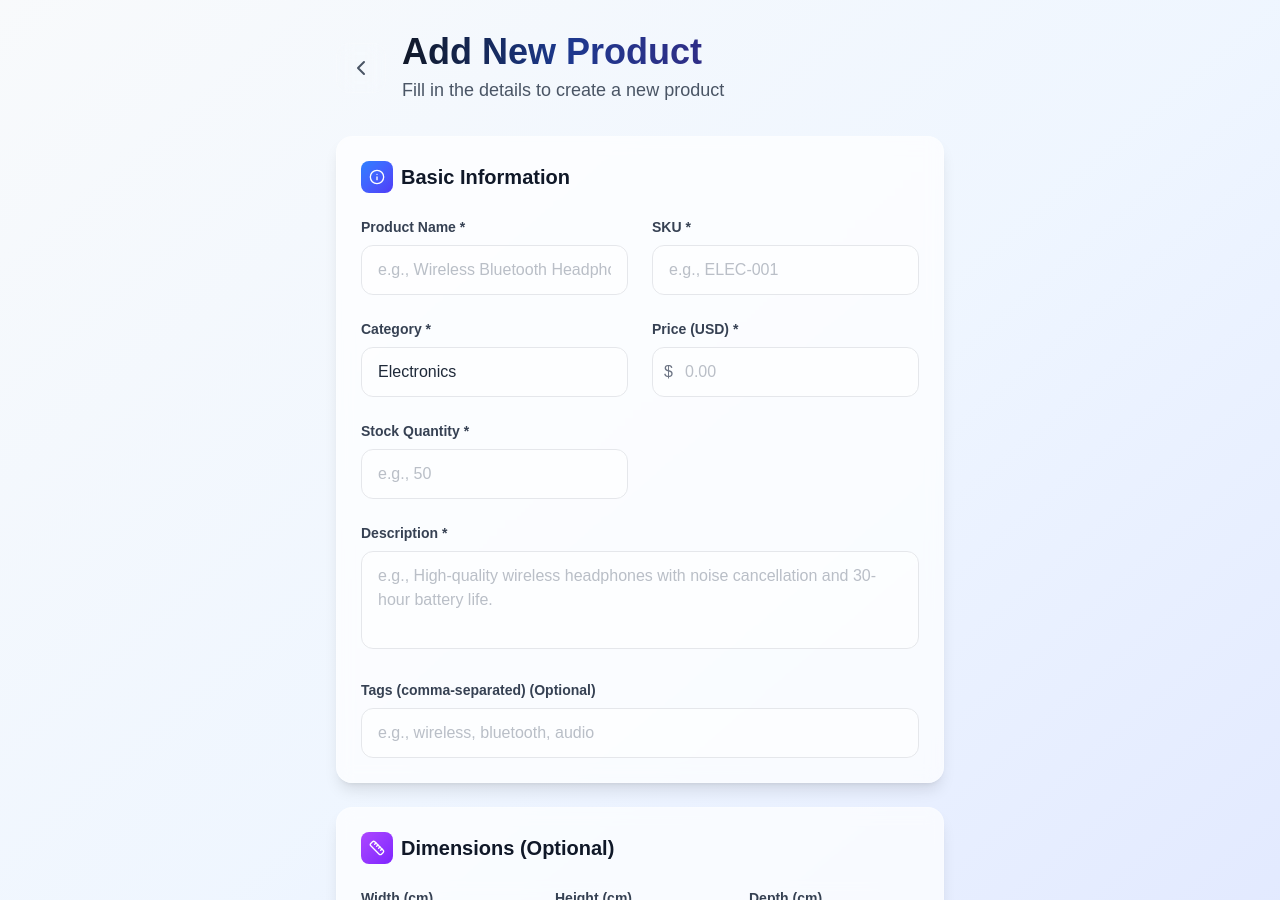
Test: NewProductPage - Simple Tests › should handle price validation
Fill required fields but leave price as 0
Type "Test Product" into the field with placeholder "e.g., Wireless Bluetooth Headphones" at (494, 270), box [361,245,628,295]
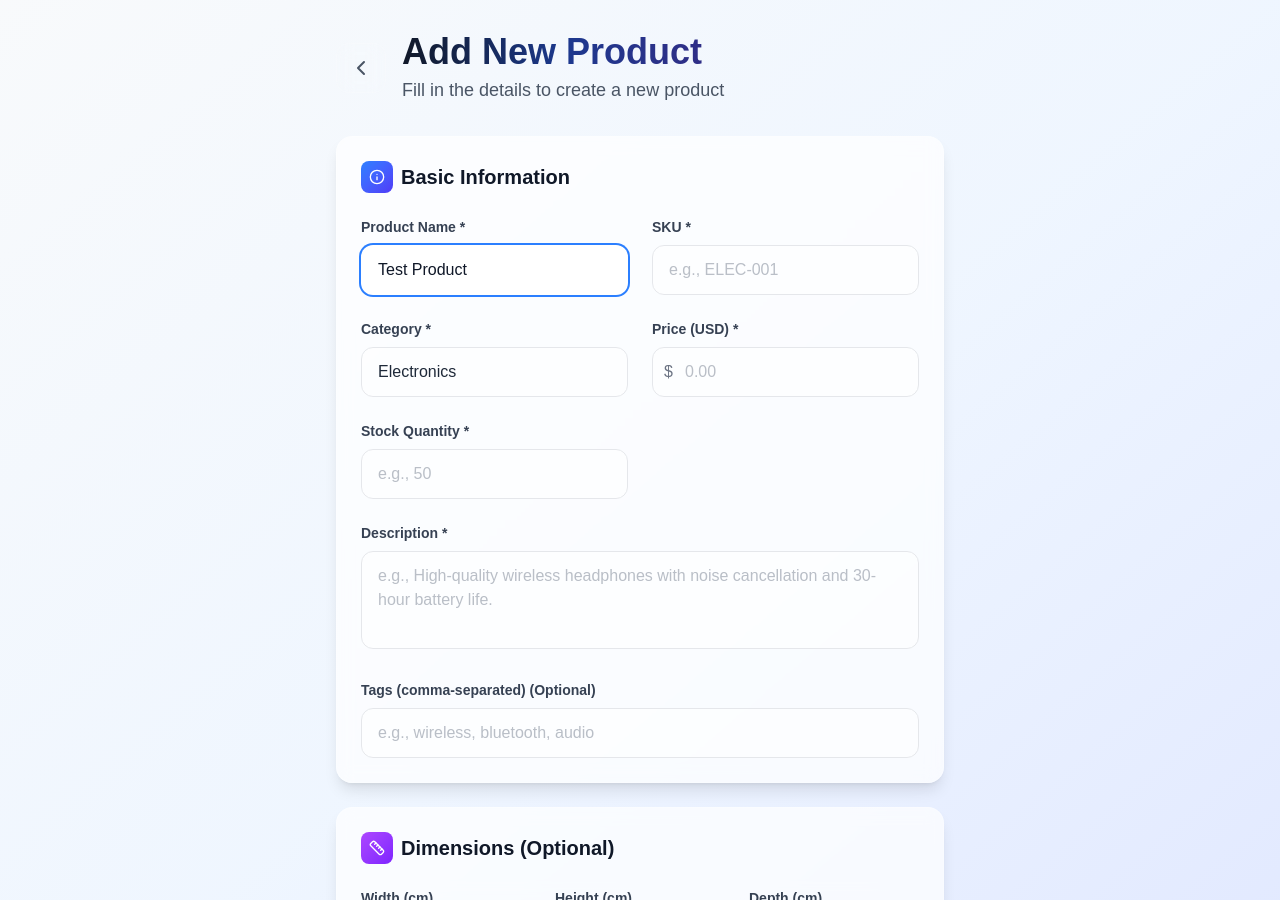
Type "TEST-001" into the field with placeholder "e.g., ELEC-001" at (786, 270), box [652,245,919,295]
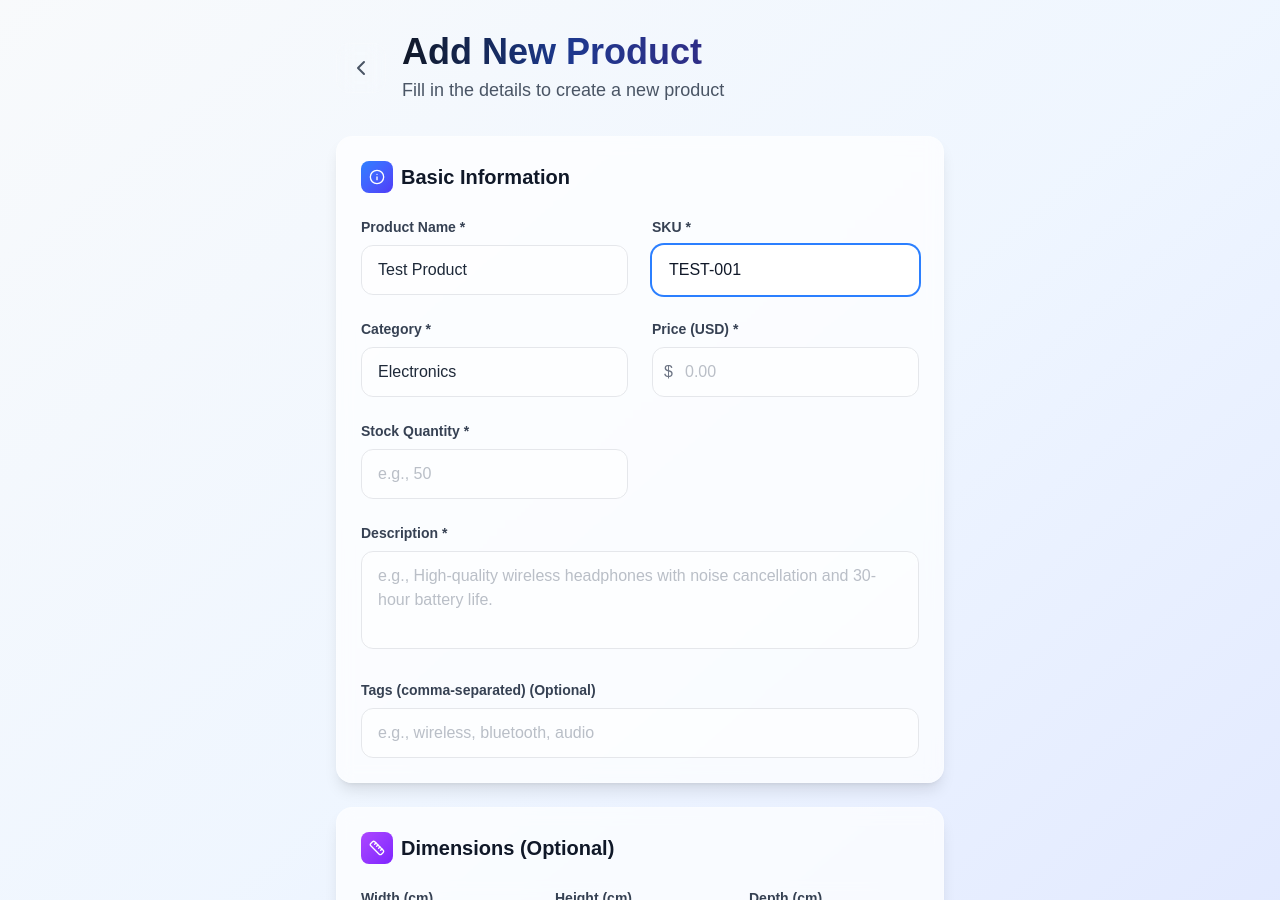
Type "Test description" into the text box with placeholder "High-quality wireless headphones" at (640, 600), box [361,551,919,649]
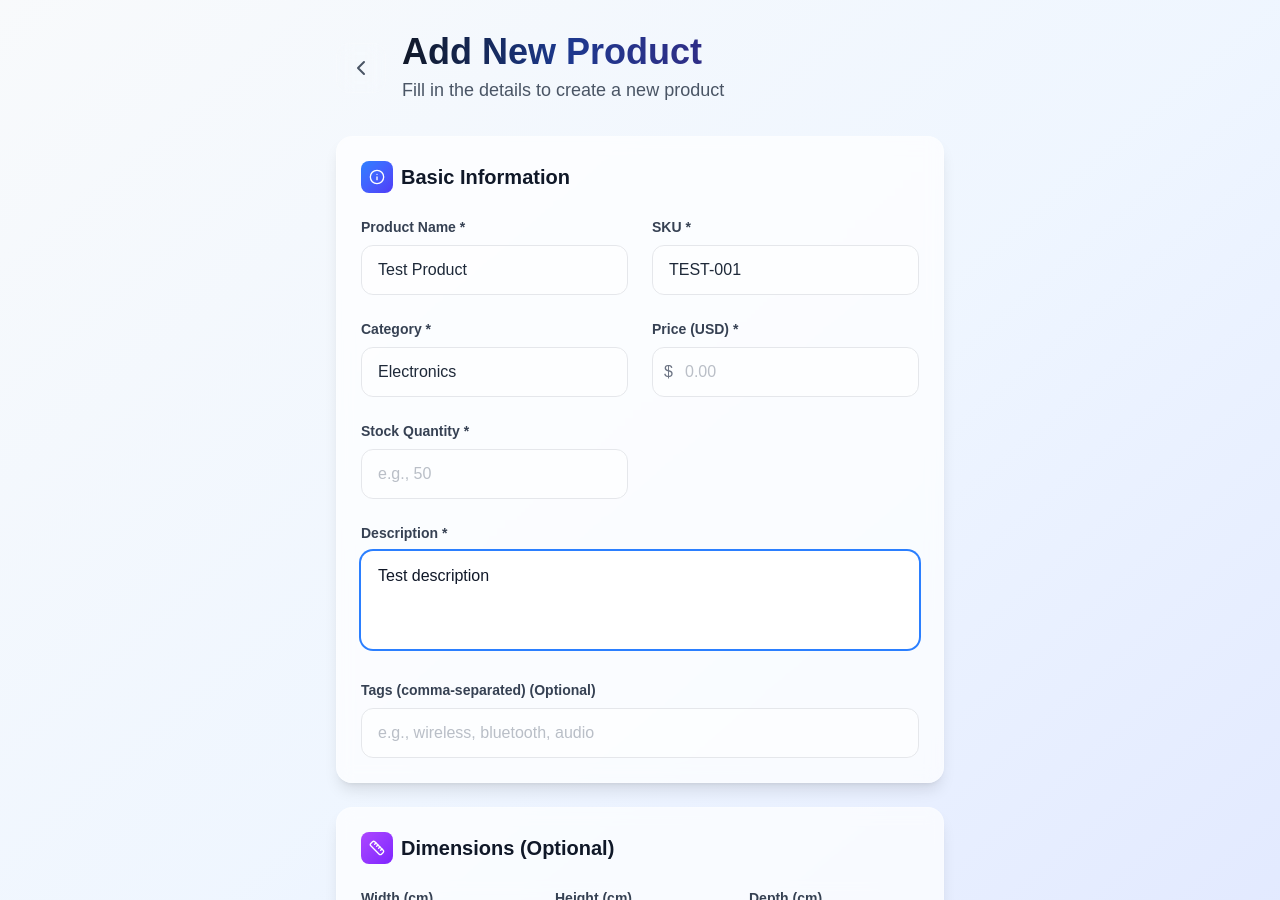
Type "10" into the number field with placeholder "e.g., 50" at (494, 474), box [361,449,628,499]
(page scrolled)
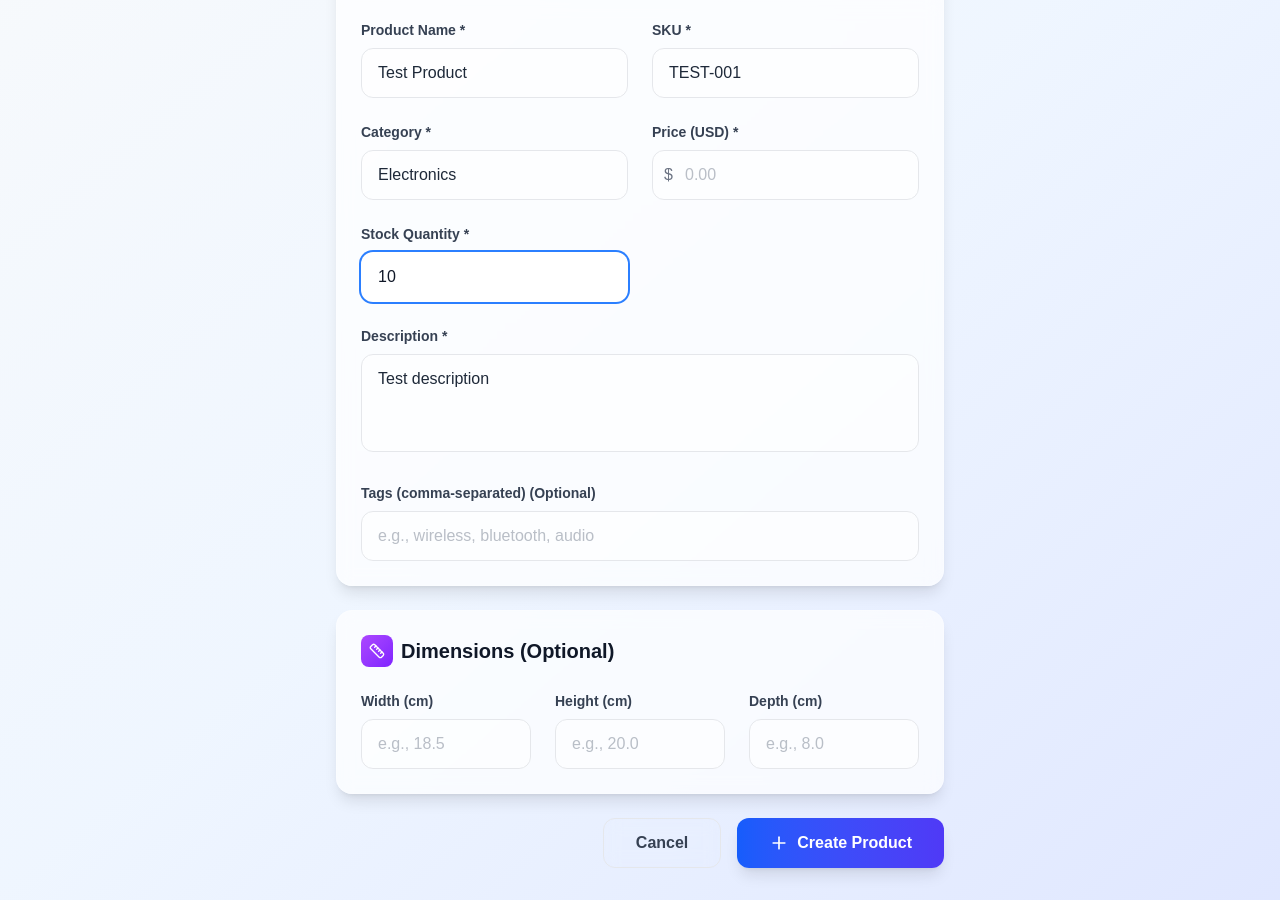
Click the button "Create Product" at (841, 843), box [737,818,944,868]
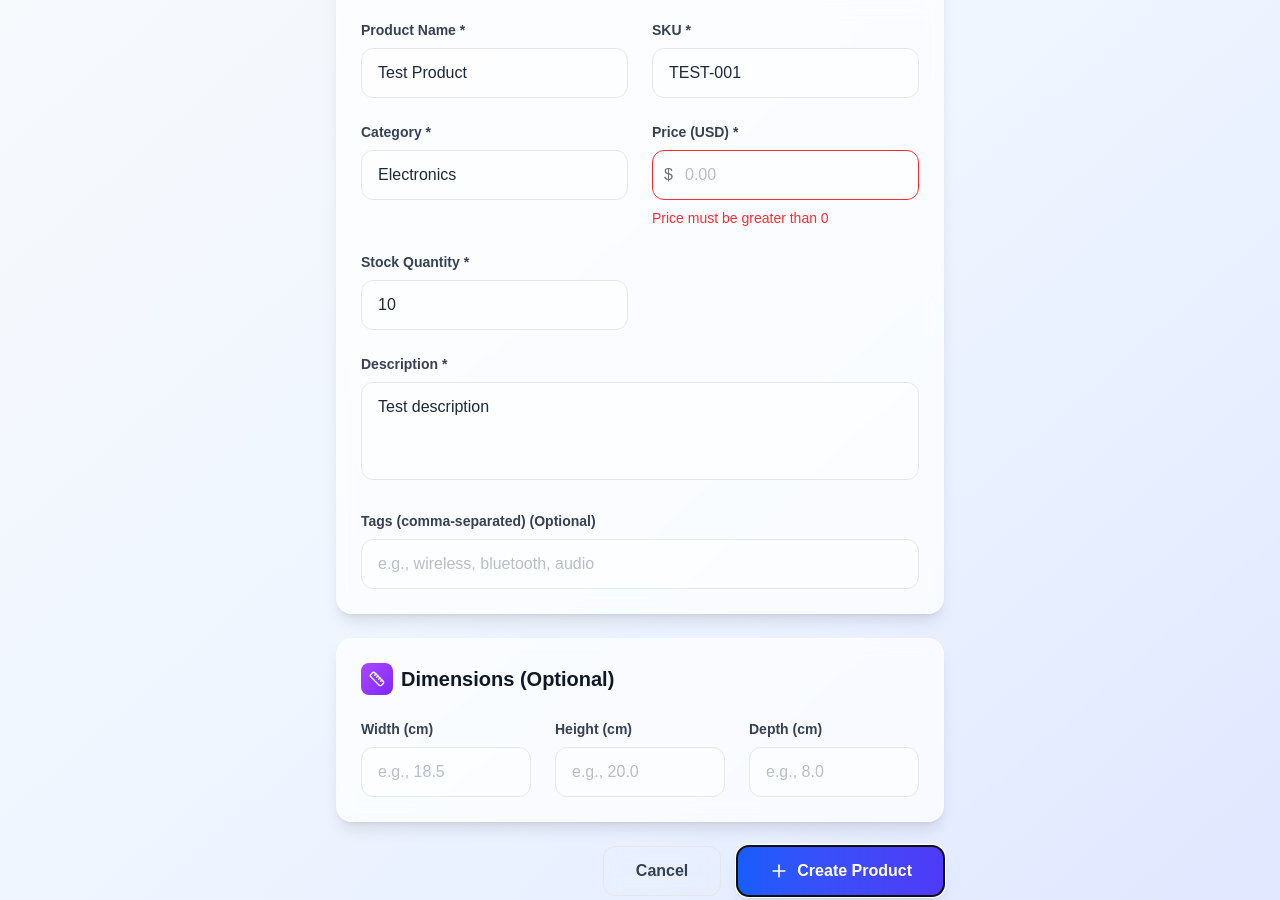
Expected: the text "Price must be greater than 0" is shown, [652,210,829,226]
